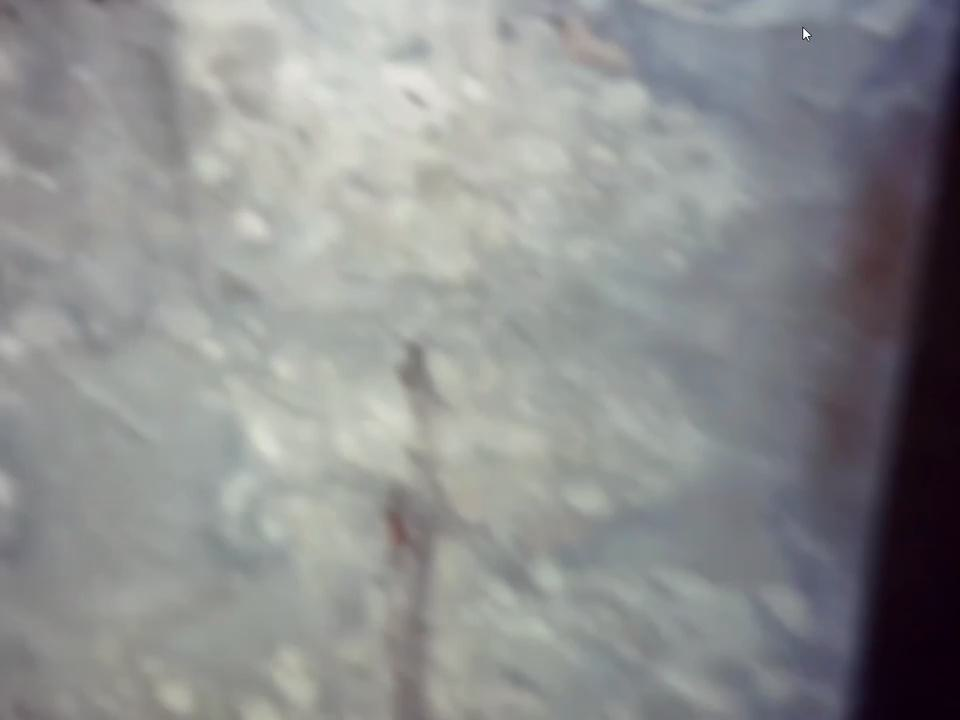Exposed reinforcement: (378, 339, 437, 720)
